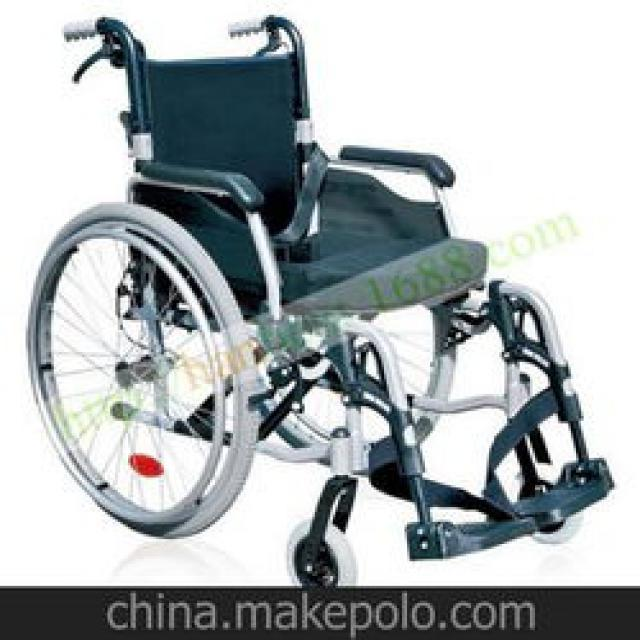wheelchair: (23, 14, 617, 584)
